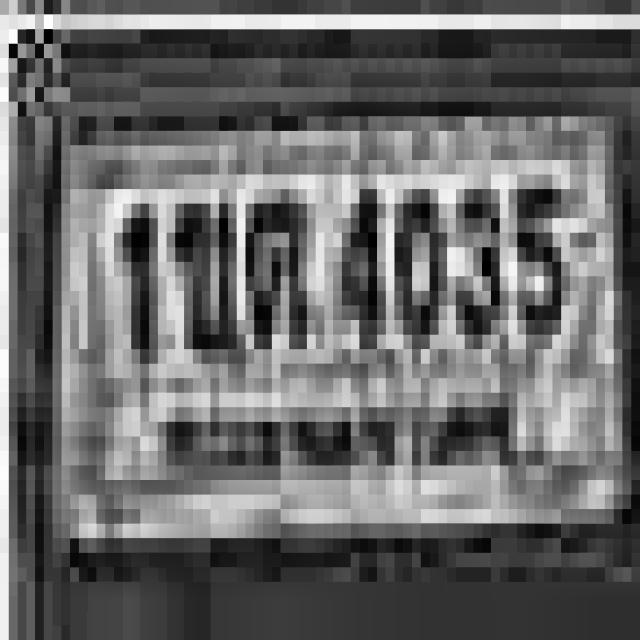license-plate: (40, 105, 640, 557)
